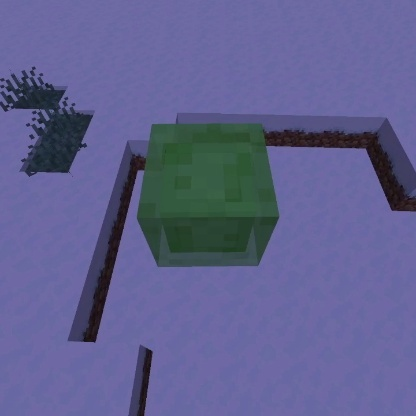slime: (132, 118, 284, 273)
